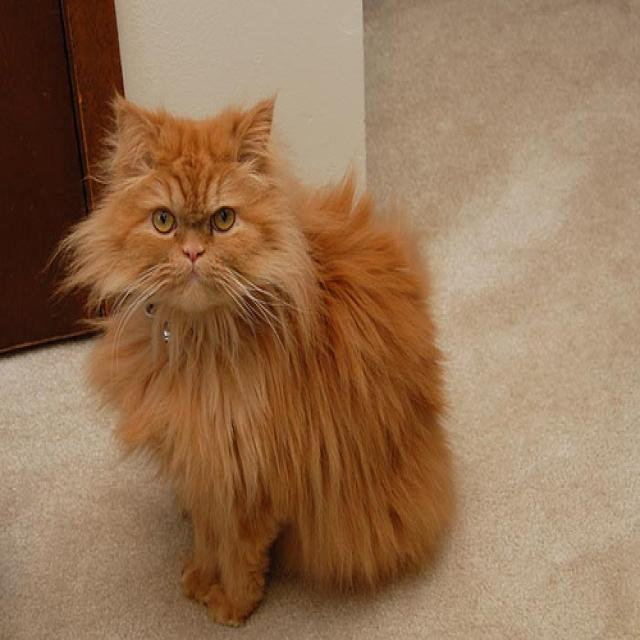Persian: (54, 90, 321, 324)
